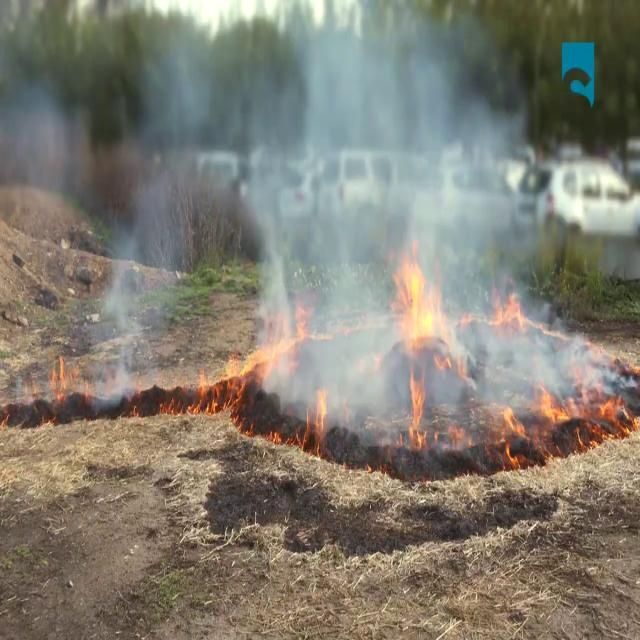Fire: (387, 245, 449, 450), (217, 311, 293, 402), (489, 284, 528, 334)
Smoke: (2, 0, 566, 435)
